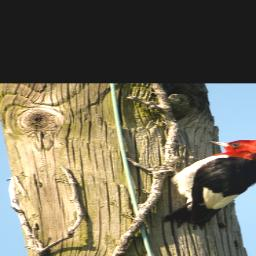Woodpecker: (145, 139, 256, 230)
